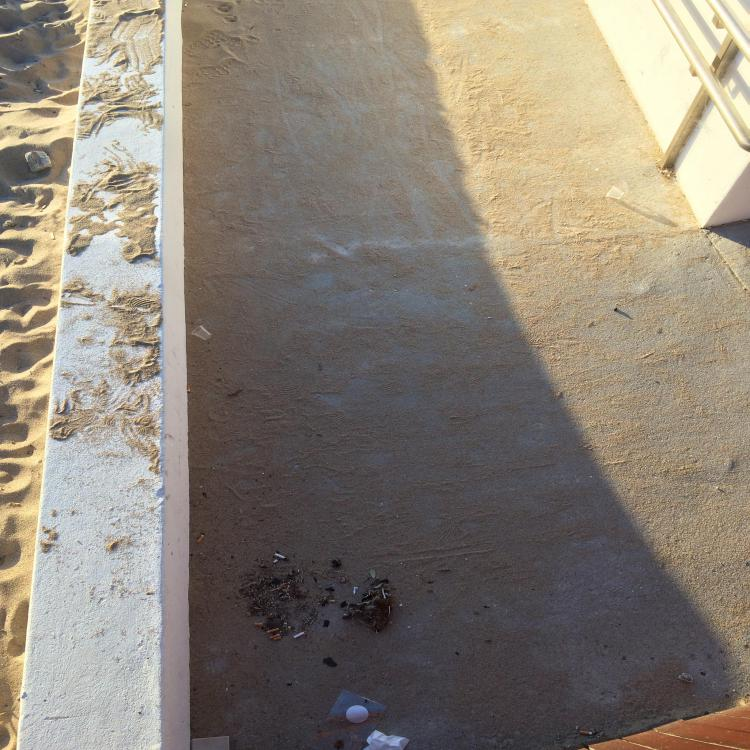Cigarette: (197, 534, 206, 543), (275, 554, 288, 560), (294, 632, 305, 639), (278, 582, 286, 590), (269, 634, 280, 639), (580, 731, 592, 735), (268, 629, 279, 633), (274, 637, 282, 641), (254, 623, 264, 626), (272, 560, 279, 564), (188, 385, 190, 393)
Disposable plastic cup: (191, 325, 212, 340), (606, 186, 624, 199)
Normal paper: (362, 730, 410, 749)
Plastic film: (310, 689, 386, 750)
